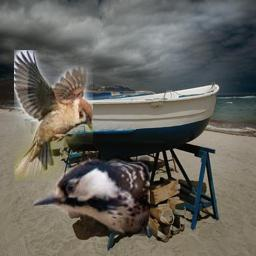Sparrow: (14, 50, 93, 180)
Woodpecker: (34, 153, 150, 236)
